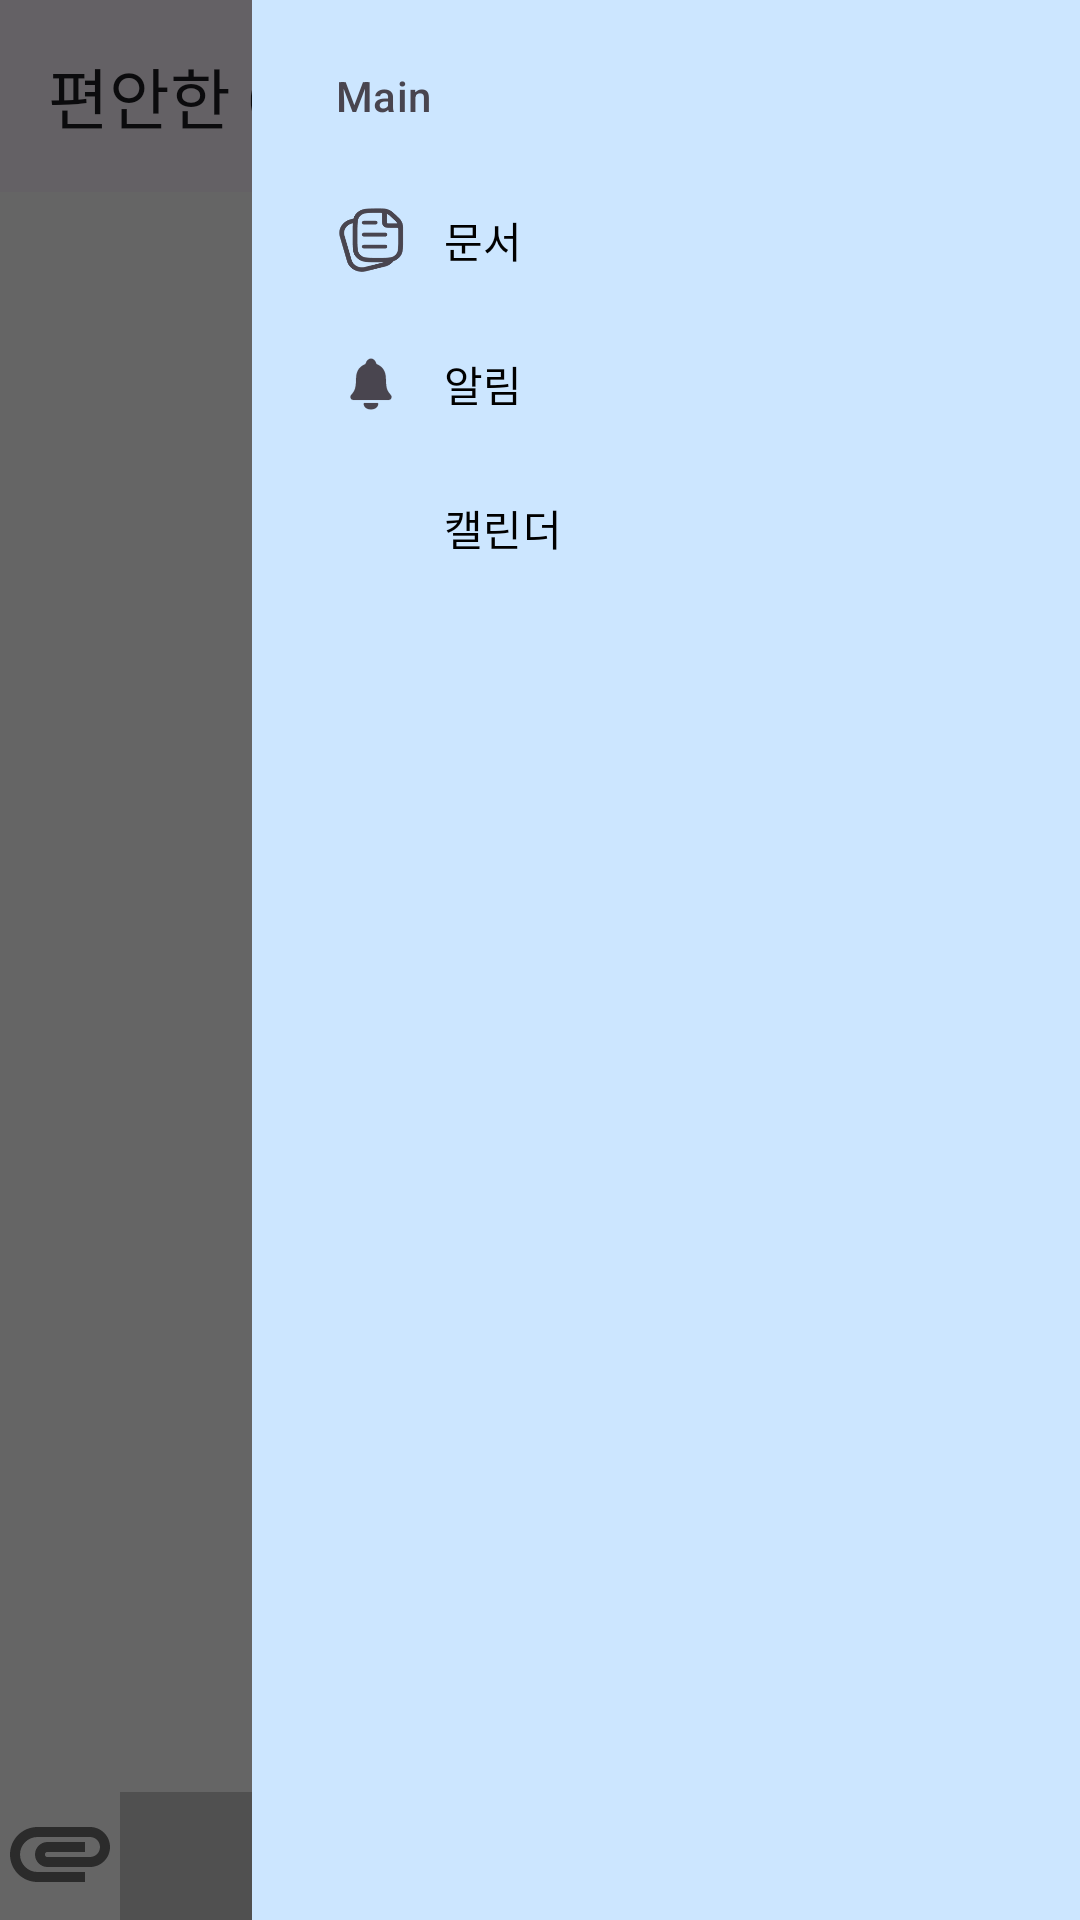

Where to tap for icons on this 1080x1920 app screen, as [x,y]:
attachment: [60,1854]
